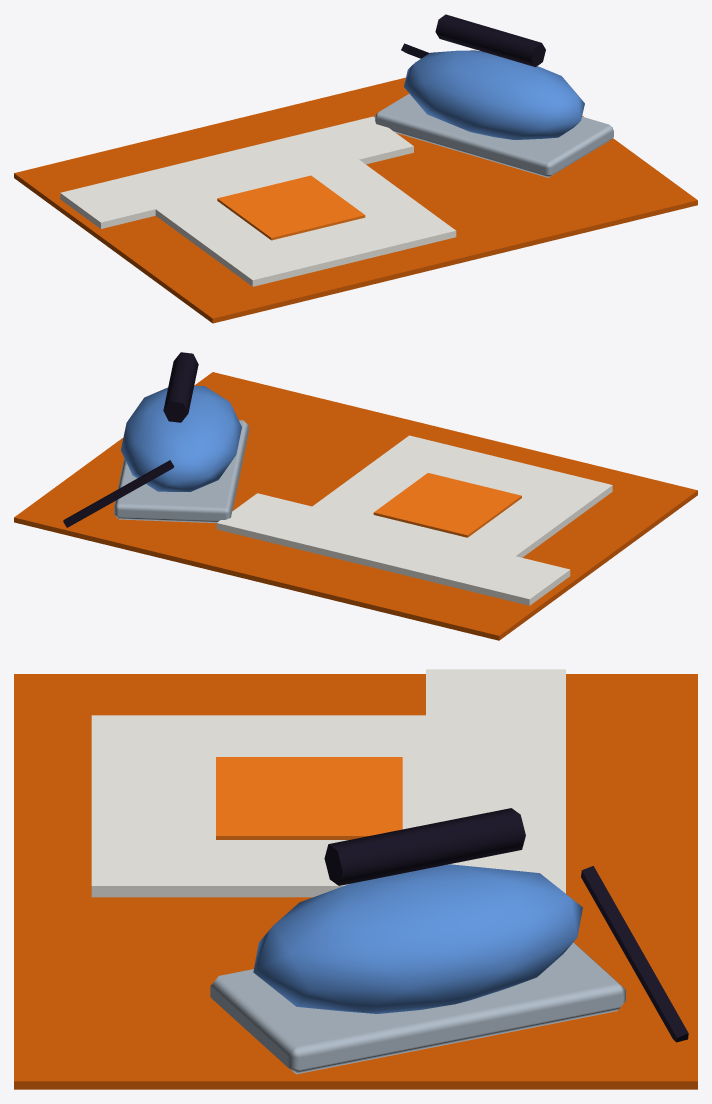
The model's file is station_buffer_ausstattung_1_0.glb.
3 renders of one model, top to bottom at view 1: azimuth 30°, elevation 25°; view 2: azimuth 150°, elevation 25°; view 3: azimuth 270°, elevation 25°, orthographic. The views are drawn at different scales.
Parts seen in each view (by area): view 1: station_buffer_ausstattung_1_0; view 2: station_buffer_ausstattung_1_0; view 3: station_buffer_ausstattung_1_0.
Boxes of the visible parts, <box> form: station_buffer_ausstattung_1_0: <box>14,14,697,323</box>; station_buffer_ausstattung_1_0: <box>14,352,697,640</box>; station_buffer_ausstattung_1_0: <box>14,669,697,1089</box>.
Bounding box in the file's own units: 0.62 × 0.1327 × 0.44.
